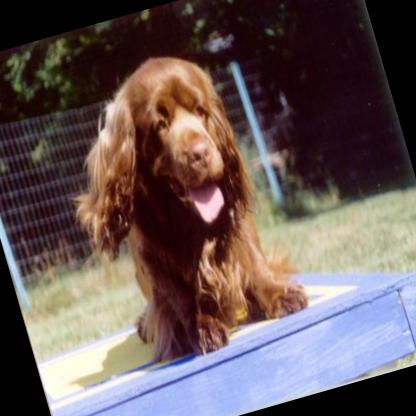Sussex_spaniel: (35, 27, 318, 382)
